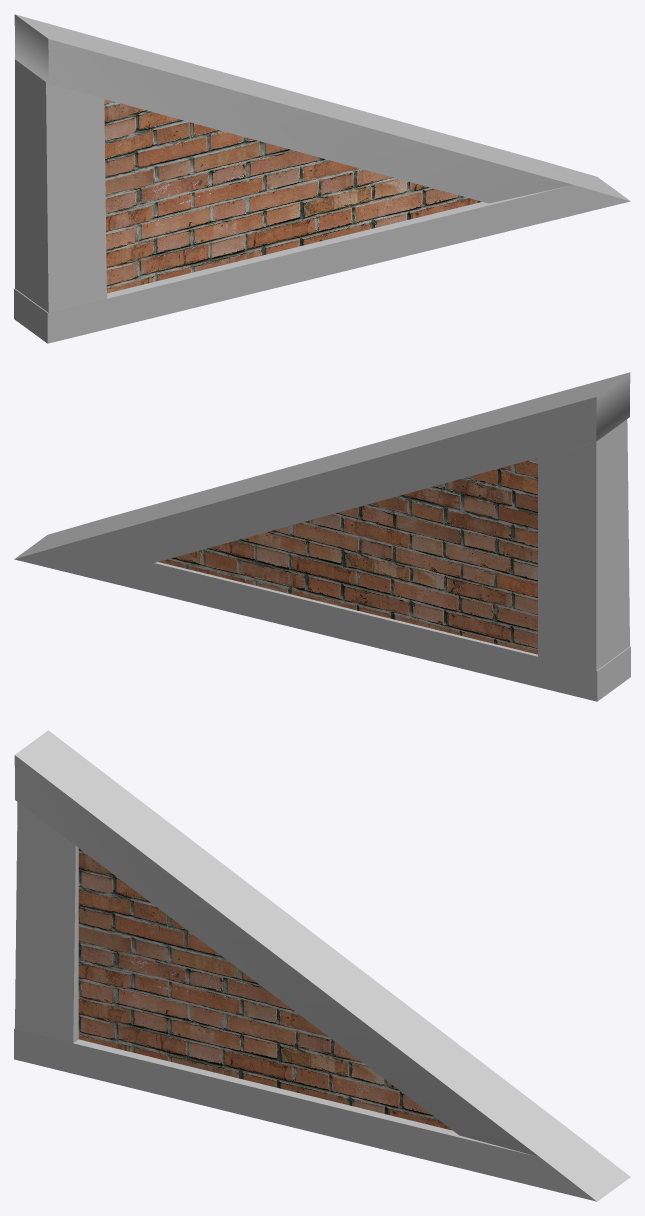
File: HouseHalfBrickTriangle2_HALFLOW.fbx
3 renders of one model, top to bottom at view 1: azimuth 30°, elevation 25°; view 2: azimuth 150°, elevation 25°; view 3: azimuth 330°, elevation 25°, orthographic.
Visible parts, largest first — view 1: House Half Timber Triangle; view 2: House Half Timber Triangle; view 3: House Half Timber Triangle.
Boxes of the visible parts, <box> form: House Half Timber Triangle: <box>14,14,630,343</box>; House Half Timber Triangle: <box>14,372,630,701</box>; House Half Timber Triangle: <box>14,730,630,1201</box>.
Bounding box in the file's own units: 250 × 125 × 25.
